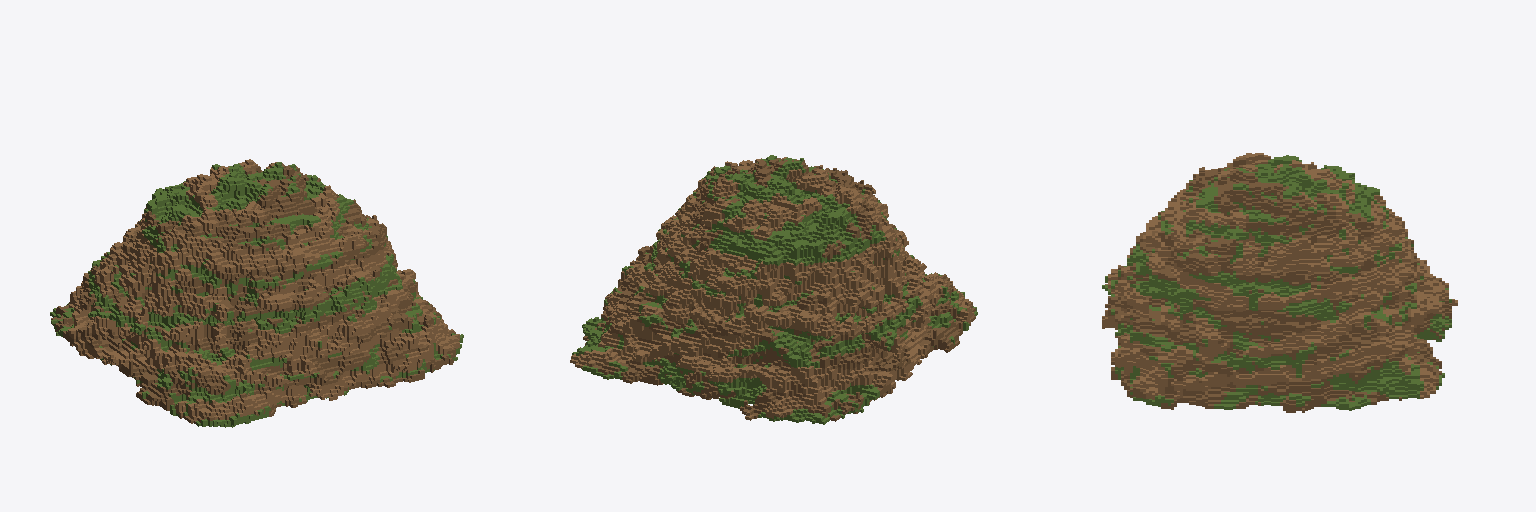
3 views of the same model, side by side, from view 1: azimuth 30°, elevation 25°; view 2: azimuth 150°, elevation 25°; view 3: azimuth 270°, elevation 25° (orthographic).
Parts seen in each view (by area): view 1: object 1; view 2: object 1; view 3: object 1.
Part boxes in pixels (x1,y1,x2,y2): object 1: (50, 159, 463, 427); object 1: (570, 155, 977, 424); object 1: (1102, 153, 1457, 412).
Size of the model in its own units: 11.5 by 5.8 by 11.4.
1 materials, 1 textured.